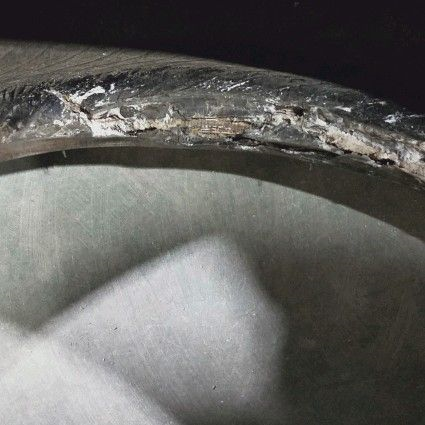bead_damage: (3, 59, 424, 196)
